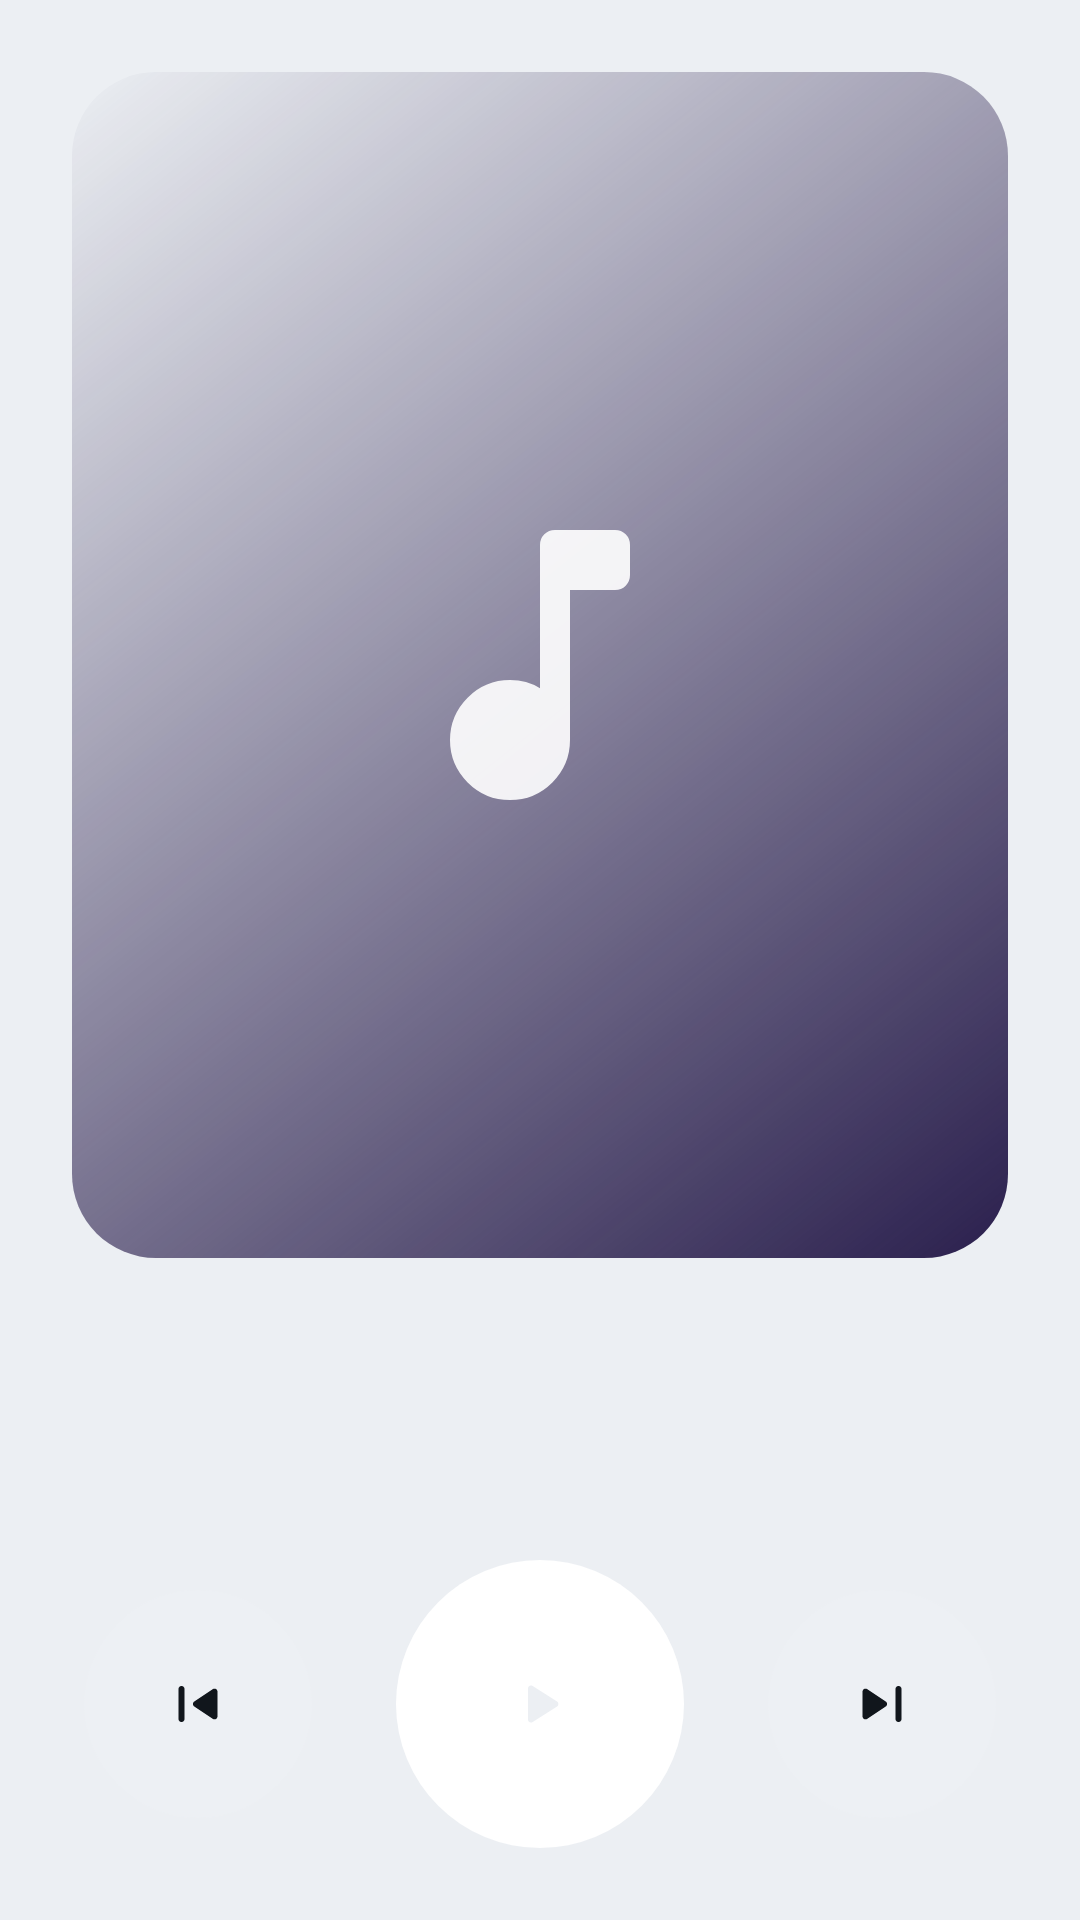

Point at icon controls on the screen. Image size 1080w x 1920h, points as [x,y].
Next track: [882,1704]
skip previous: [198,1704]
